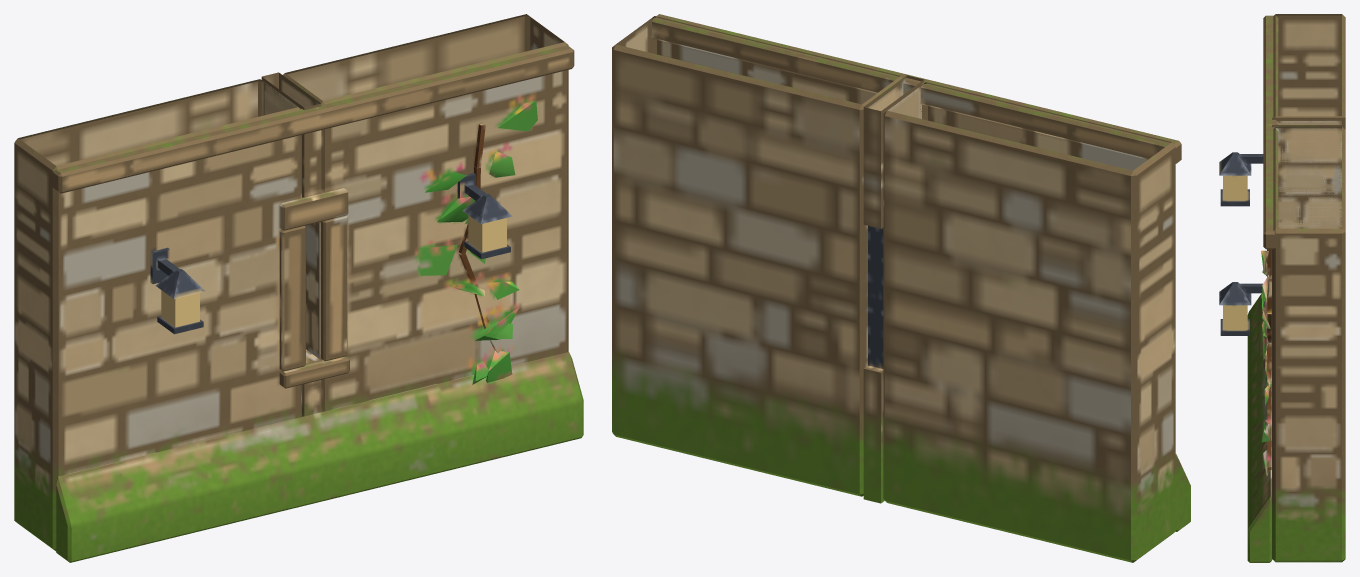
Rendered from Kit_Keep_WallSlit.fbx.
The picture shows the model from 3 angles, left to right: view 1: azimuth 30°, elevation 25°; view 2: azimuth 150°, elevation 25°; view 3: azimuth 270°, elevation 25°; orthographic projection. The views are drawn at different scales.
Parts seen in each view (by area): view 1: Kit_Keep_WallSlit_LOD0; view 2: Kit_Keep_WallSlit_LOD0; view 3: Kit_Keep_WallSlit_LOD0.
Part boxes in pixels (x1,y1,x2,y2): Kit_Keep_WallSlit_LOD0: (14, 14, 583, 562); Kit_Keep_WallSlit_LOD0: (612, 14, 1190, 562); Kit_Keep_WallSlit_LOD0: (1219, 14, 1345, 562).
Size of what is drawn, in the model's own units: 4.2 by 3 by 1.03.
Materials: 1 (1 with a texture image).
